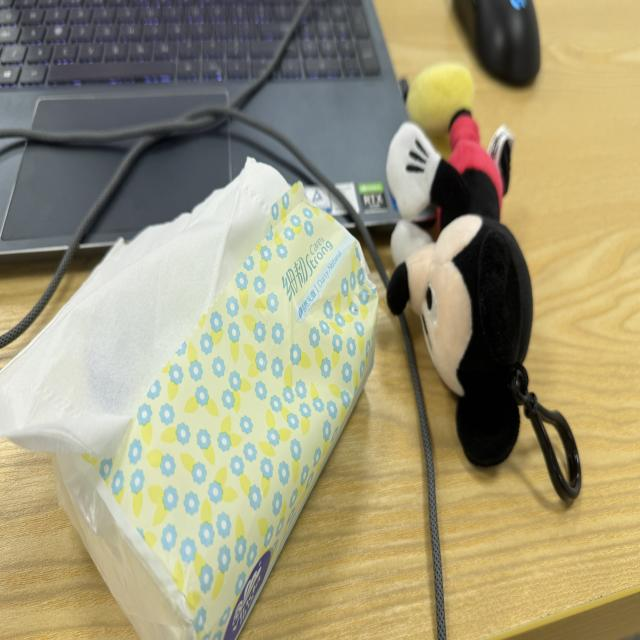mickey: (387, 65, 581, 501), (387, 66, 532, 466)
tissue: (12, 162, 377, 639), (0, 159, 287, 456)
